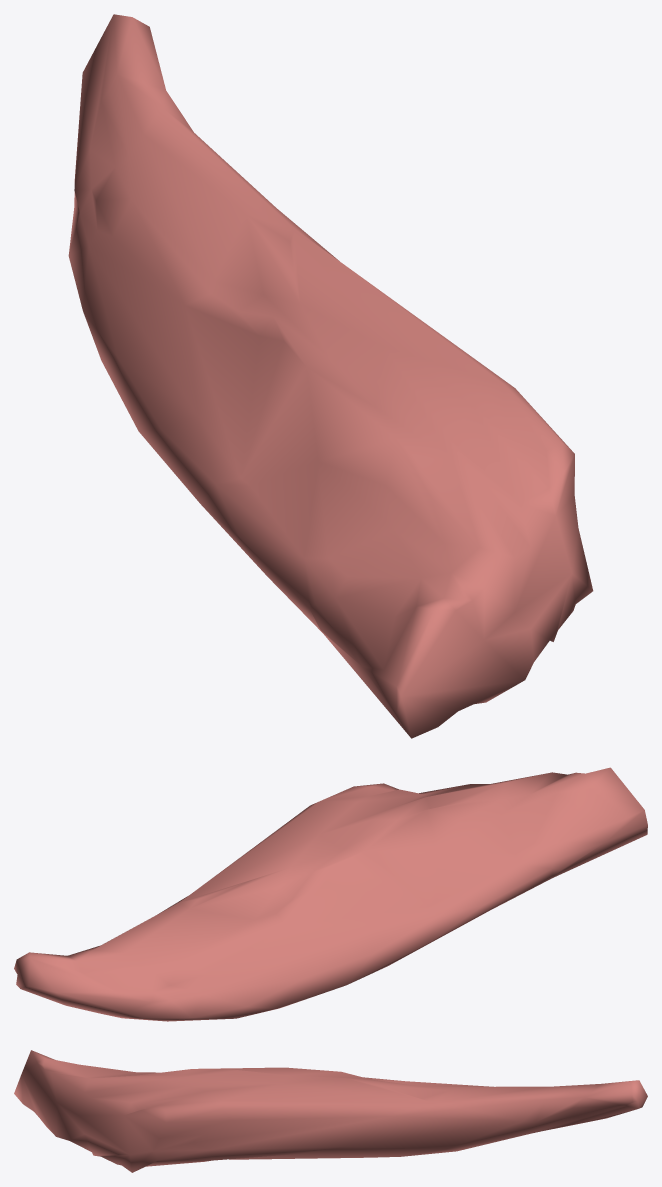
The picture shows the model from 3 angles, top to bottom: view 1: azimuth 30°, elevation 25°; view 2: azimuth 150°, elevation 25°; view 3: azimuth 270°, elevation 25°; orthographic projection. The views are drawn at different scales.
Visible parts, largest first — view 1: ZA_90ebac6b530bd4dd; view 2: ZA_90ebac6b530bd4dd; view 3: ZA_90ebac6b530bd4dd.
Boxes of the visible parts, box(x1,y1,x2,y2) form: ZA_90ebac6b530bd4dd: box(68, 14, 593, 738); ZA_90ebac6b530bd4dd: box(14, 767, 647, 1021); ZA_90ebac6b530bd4dd: box(14, 1050, 647, 1172).
Bounding box in the file's own units: 0.012 × 0.00633 × 0.0358.
